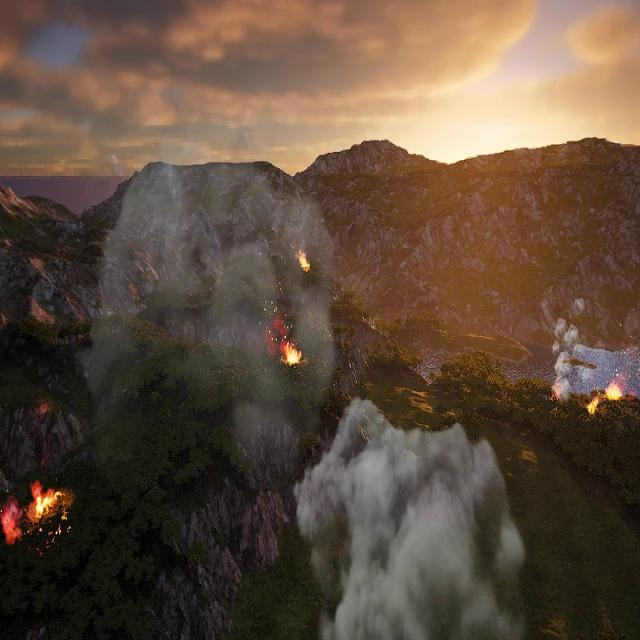fire: (28, 482, 66, 521), (585, 381, 621, 414), (282, 341, 303, 368), (296, 249, 312, 271)
smoke: (80, 158, 336, 460), (294, 398, 528, 640), (0, 500, 22, 546)
